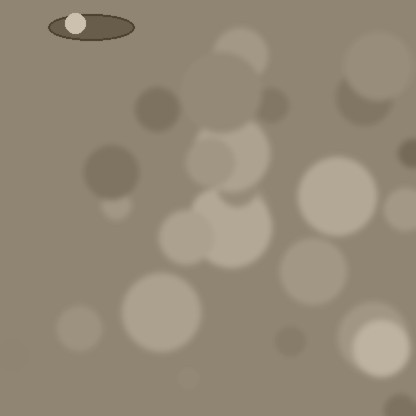gota: (48, 15, 134, 43)
